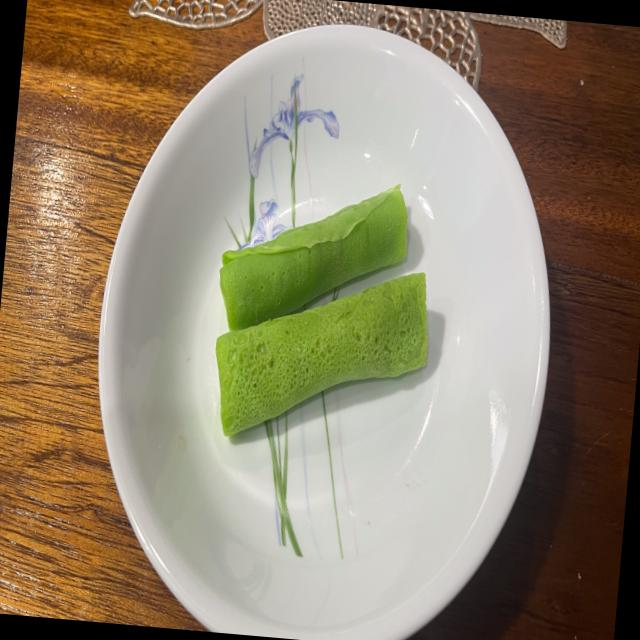Kuih-Ketayap: (215, 272, 427, 435), (219, 184, 407, 330)
